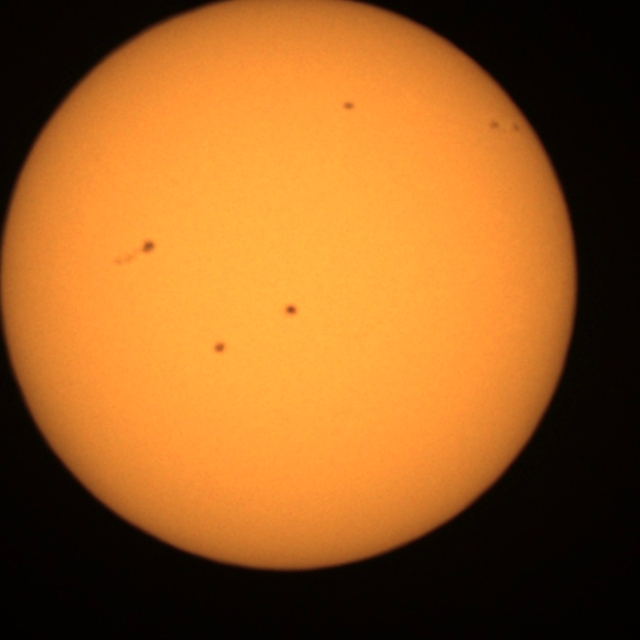sunspot: (111, 238, 157, 268), (488, 118, 522, 136), (139, 238, 157, 256), (212, 340, 228, 356), (283, 303, 299, 318), (341, 100, 356, 113)
